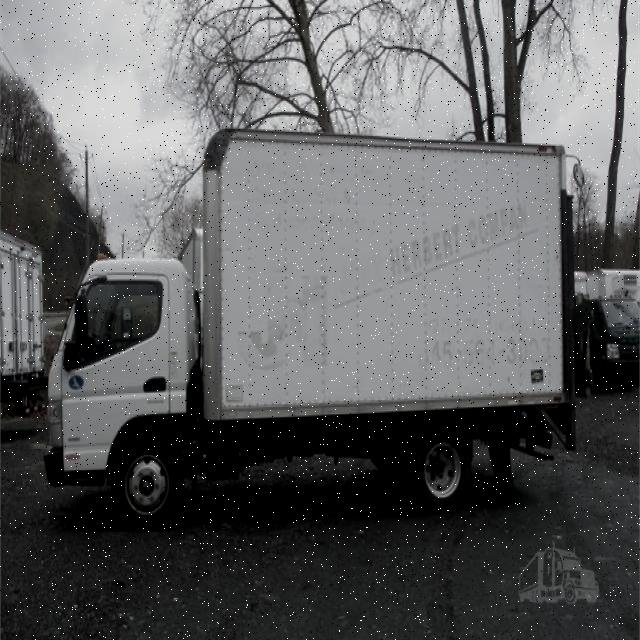truck: (43, 123, 561, 525)
